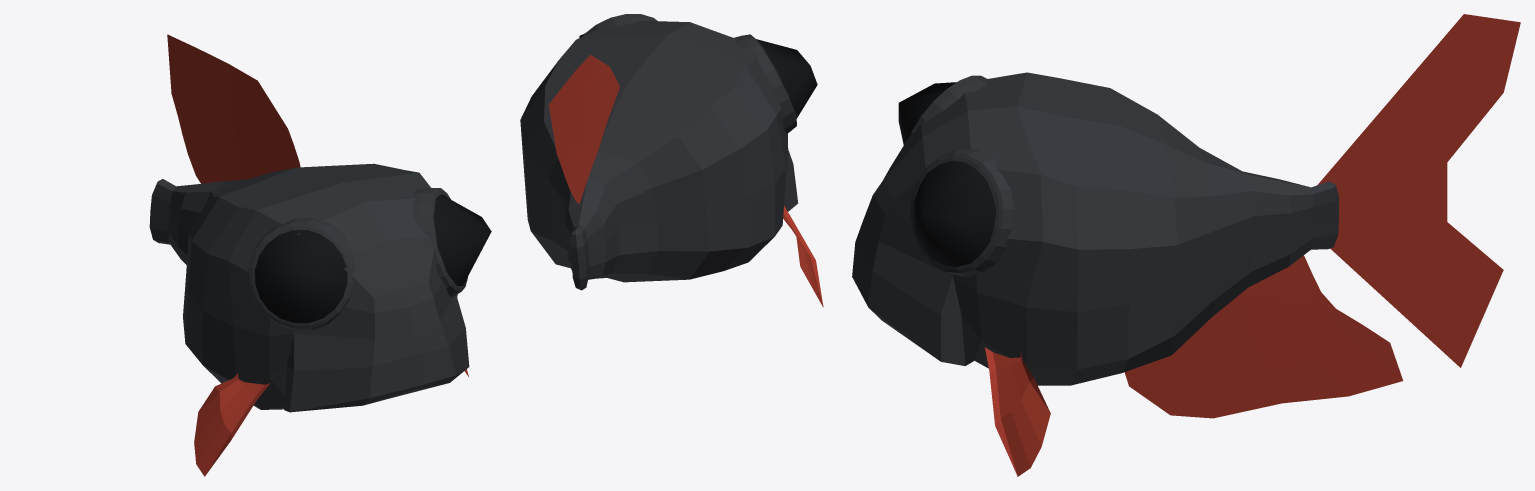
The model's file is cc0-betta-lod1.glb.
The picture shows the model from 3 angles, left to right: view 1: azimuth 30°, elevation 25°; view 2: azimuth 150°, elevation 25°; view 3: azimuth 270°, elevation 25°; orthographic projection. The views are drawn at different scales.
Parts seen in each view (by area): view 1: part_0; view 2: part_0; view 3: part_0.
Part boxes in pixels (x1,y1,x2,y2): part_0: (149, 34, 491, 476); part_0: (520, 14, 823, 307); part_0: (852, 14, 1520, 476).
Bounding box in the file's own units: 3.02 × 3.37 × 5.4.
